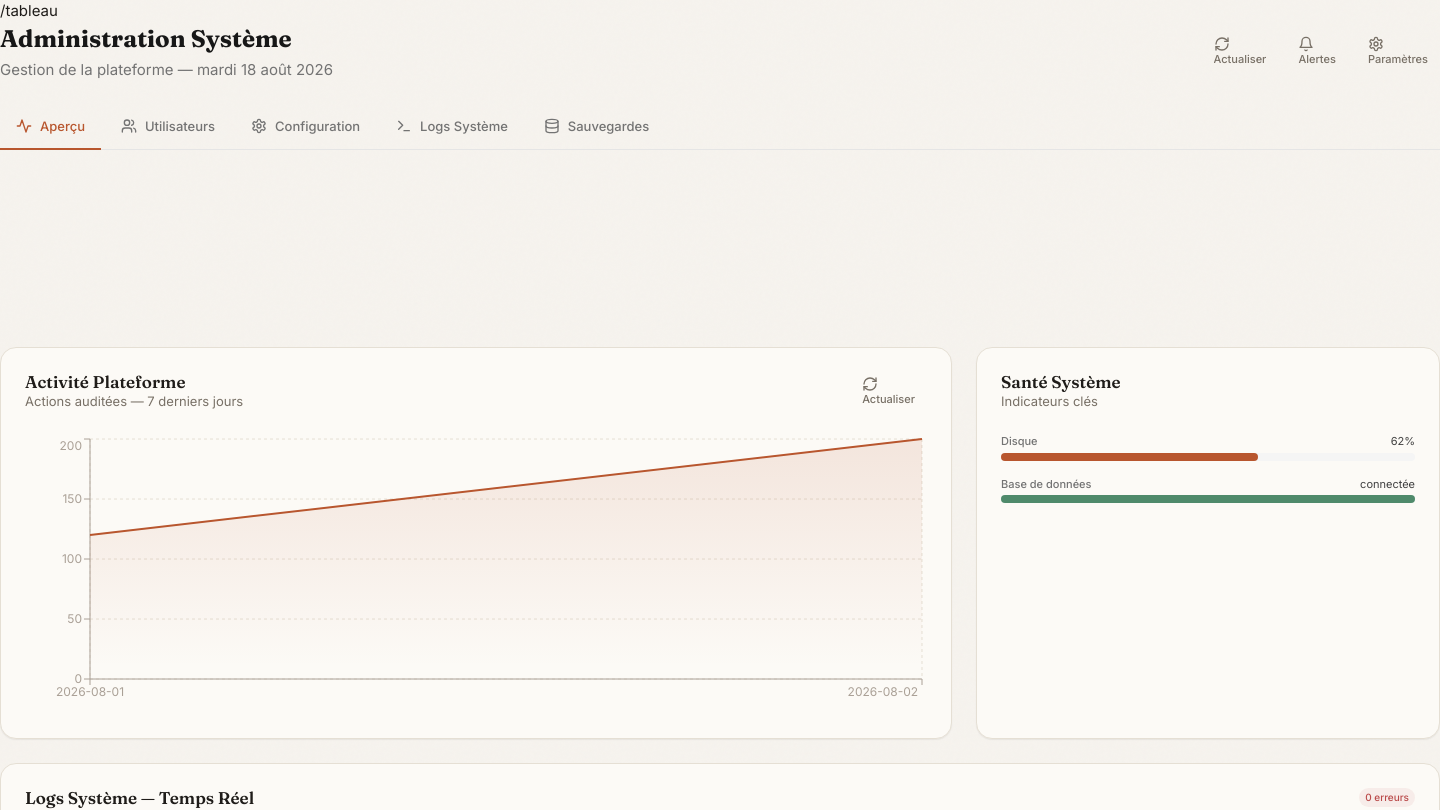
AdminDashboard › affiche un état vide dans l’onglet Logs quand il n’y a aucune entrée
Click the button "Logs Système" at (452, 127), box x1=380 y1=105 x2=524 y2=150
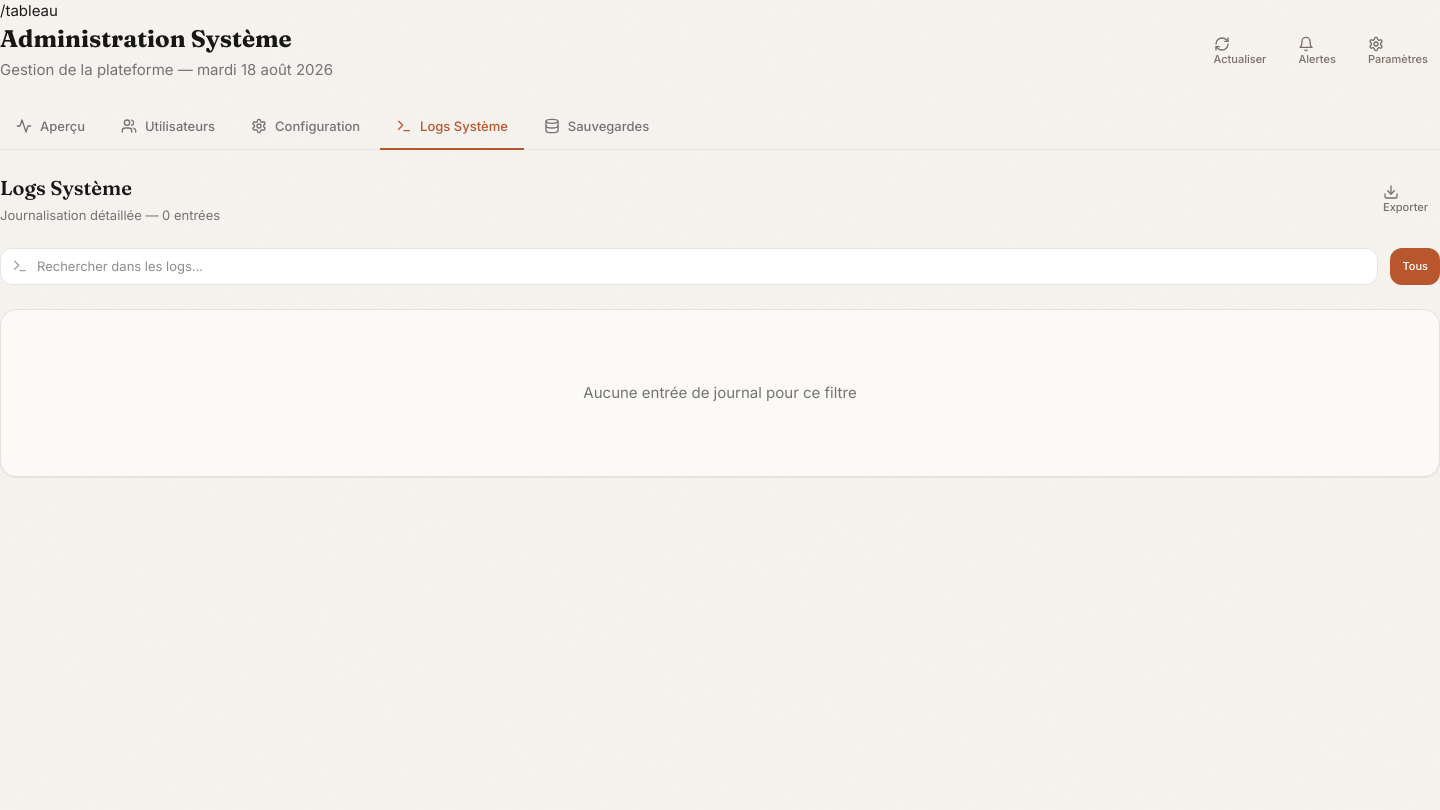
Expected: the text "Aucune entrée de journal pour ce filtre" is shown, x1=583 y1=383 x2=857 y2=402
